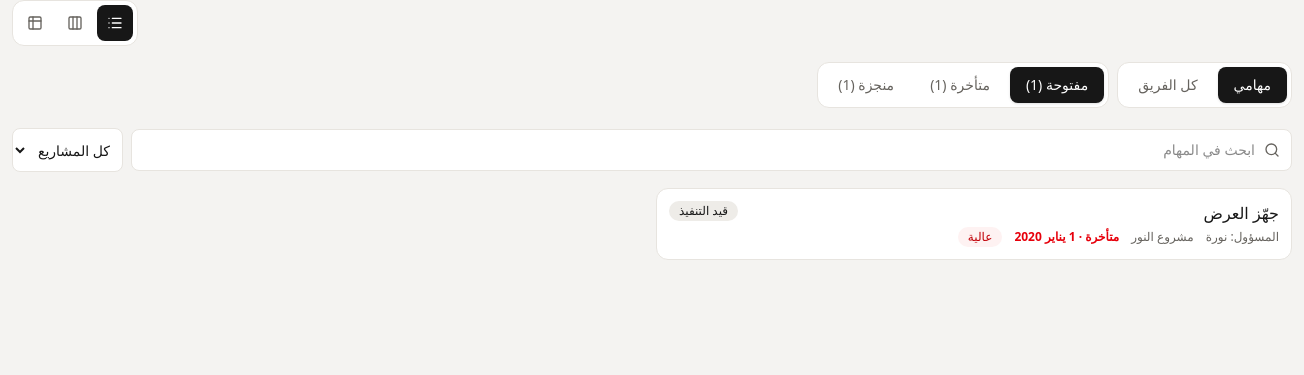
it: TasksPage › shows a board by status, with done tasks in their own column
The image size is (1304, 375).
Expected: the text "جهّز العرض" is shown, [1204,202,1279,224]
Click the tab named "لوحة" at (75, 23), box [57,5,93,41]
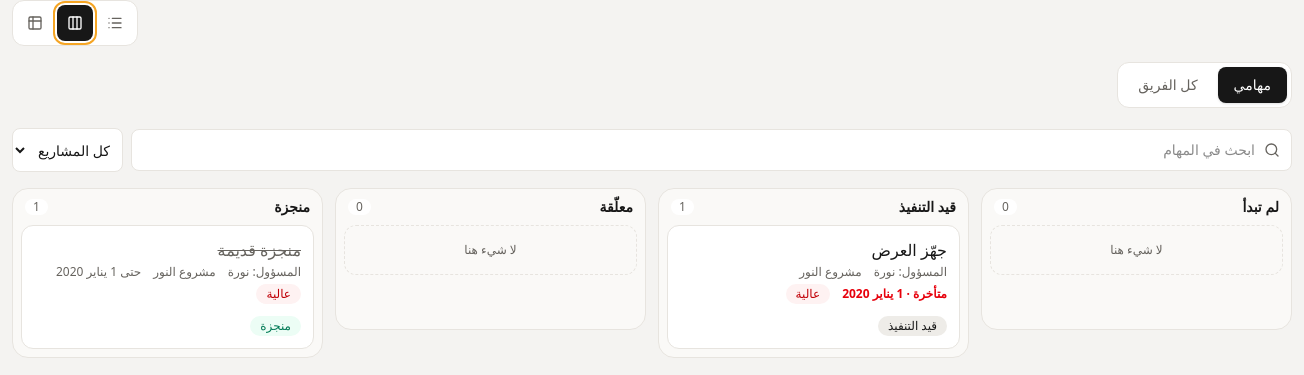
Expected: the list item "قيد التنفيذ" shows "جهّز العرض", [872,239,947,261]
Expected: the list item "منجزة" shows "منجزة قديمة", [218,239,301,261]
